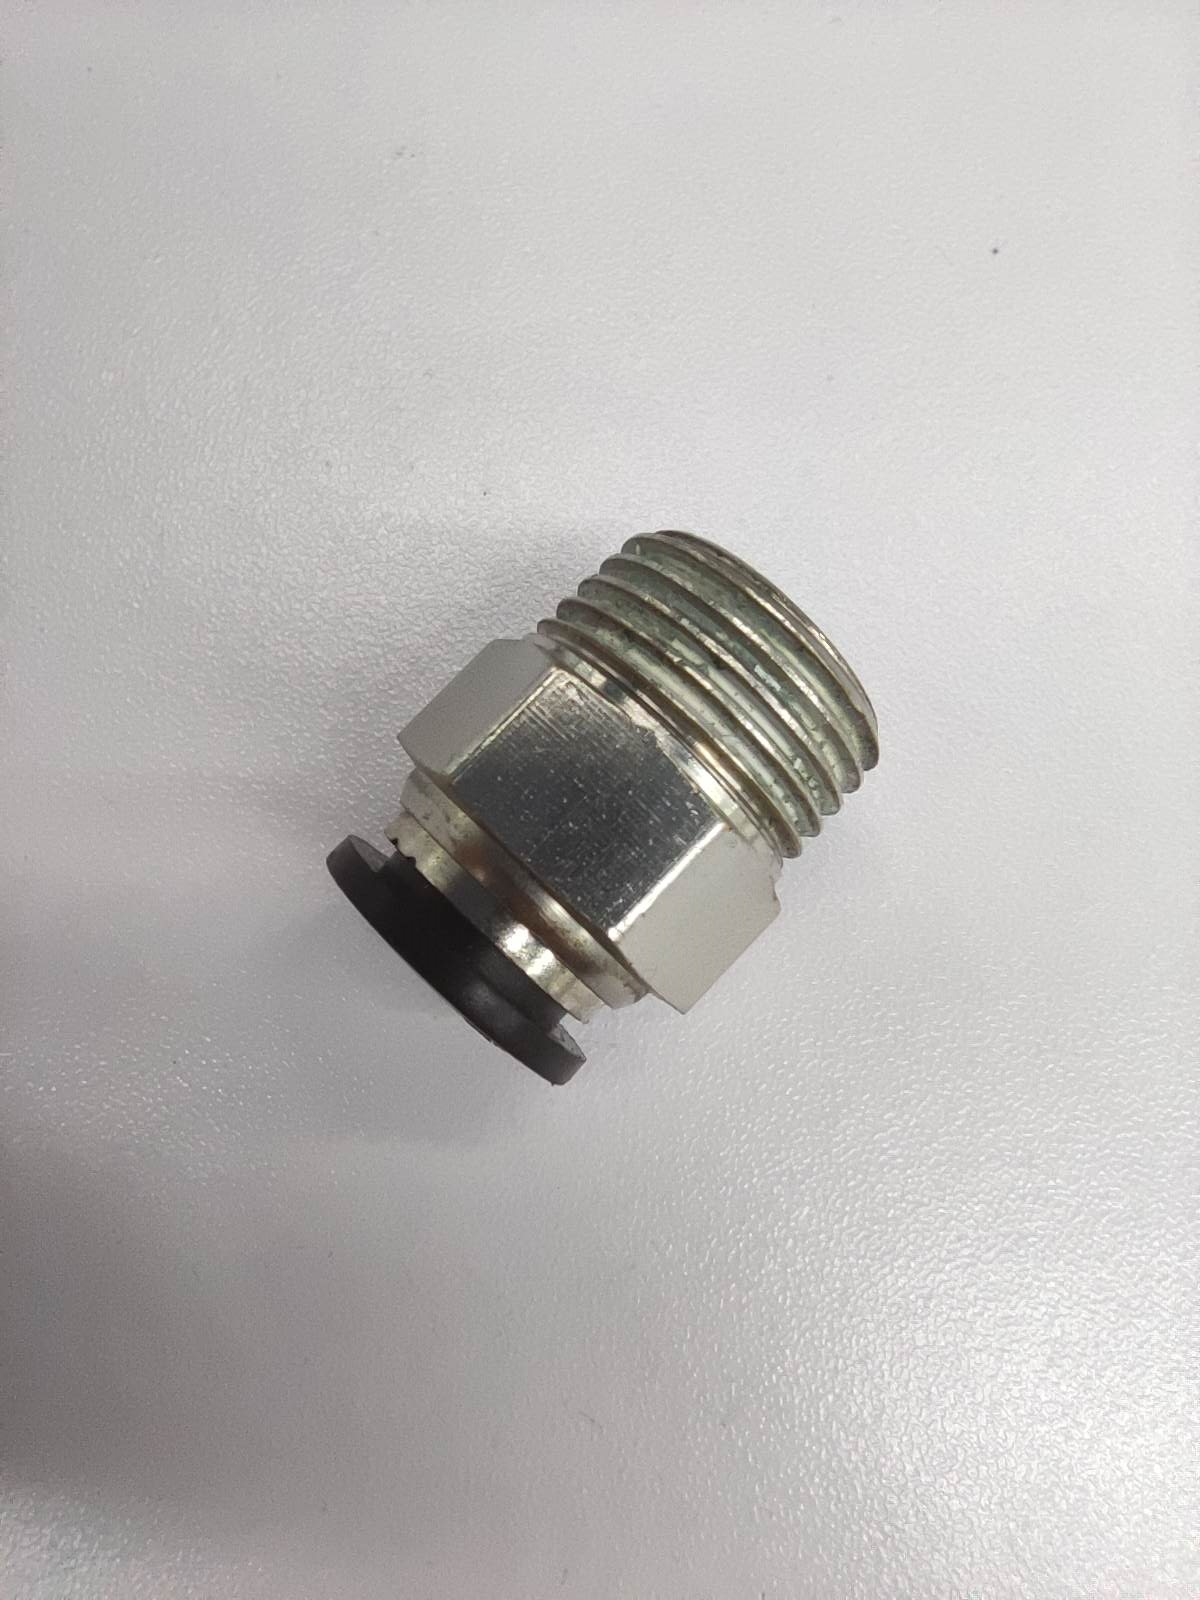水管接头银: (326, 528, 881, 1083)
